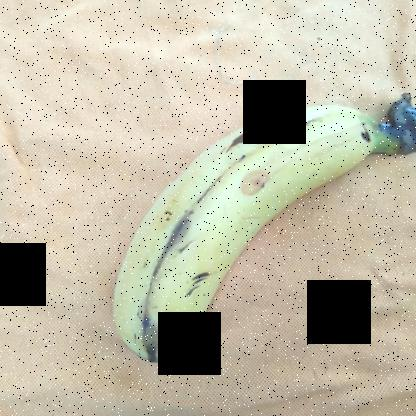ripe: (104, 97, 383, 361)
